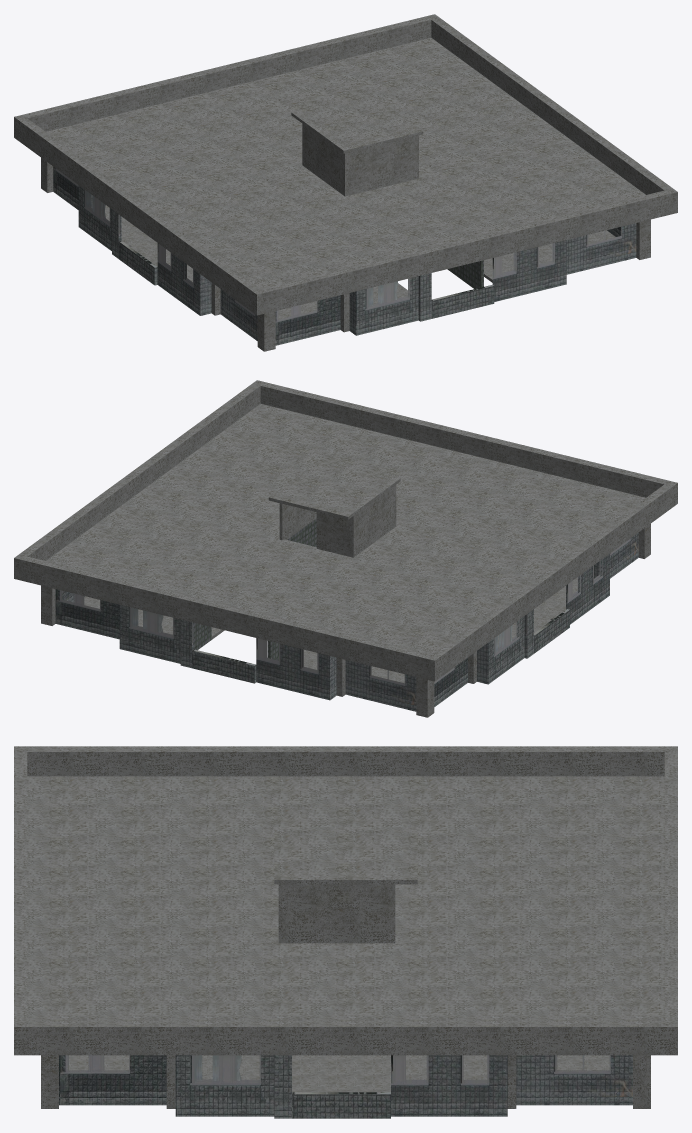
File: BagSS07top_300.fbx
The picture shows the model from 3 angles, top to bottom: view 1: azimuth 30°, elevation 25°; view 2: azimuth 150°, elevation 25°; view 3: azimuth 270°, elevation 25°; orthographic projection. The views are drawn at different scales.
Parts seen in each view (by area): view 1: topRoof300, topMain300, topFloors300, topWalls300; view 2: topRoof300, topMain300, topFloors300, topWalls300; view 3: topRoof300, topMain300, topFloors300.
Part boxes in pixels (x1,y1,x2,y2): topRoof300: [14, 14, 677, 351]; topMain300: [53, 167, 636, 345]; topFloors300: [105, 205, 615, 319]; topWalls300: [447, 260, 483, 288]; topRoof300: [14, 380, 677, 717]; topMain300: [55, 533, 638, 711]; topFloors300: [84, 577, 577, 683]; topWalls300: [193, 518, 316, 660]; topRoof300: [14, 746, 677, 1108]; topMain300: [59, 1055, 632, 1118]; topFloors300: [69, 1055, 609, 1092].
Bounding box in the file's own units: 35.52 × 7.92 × 35.52.
